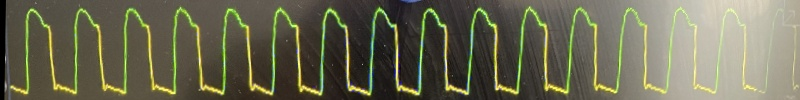normal_pressure: (1, 0, 764, 100)
